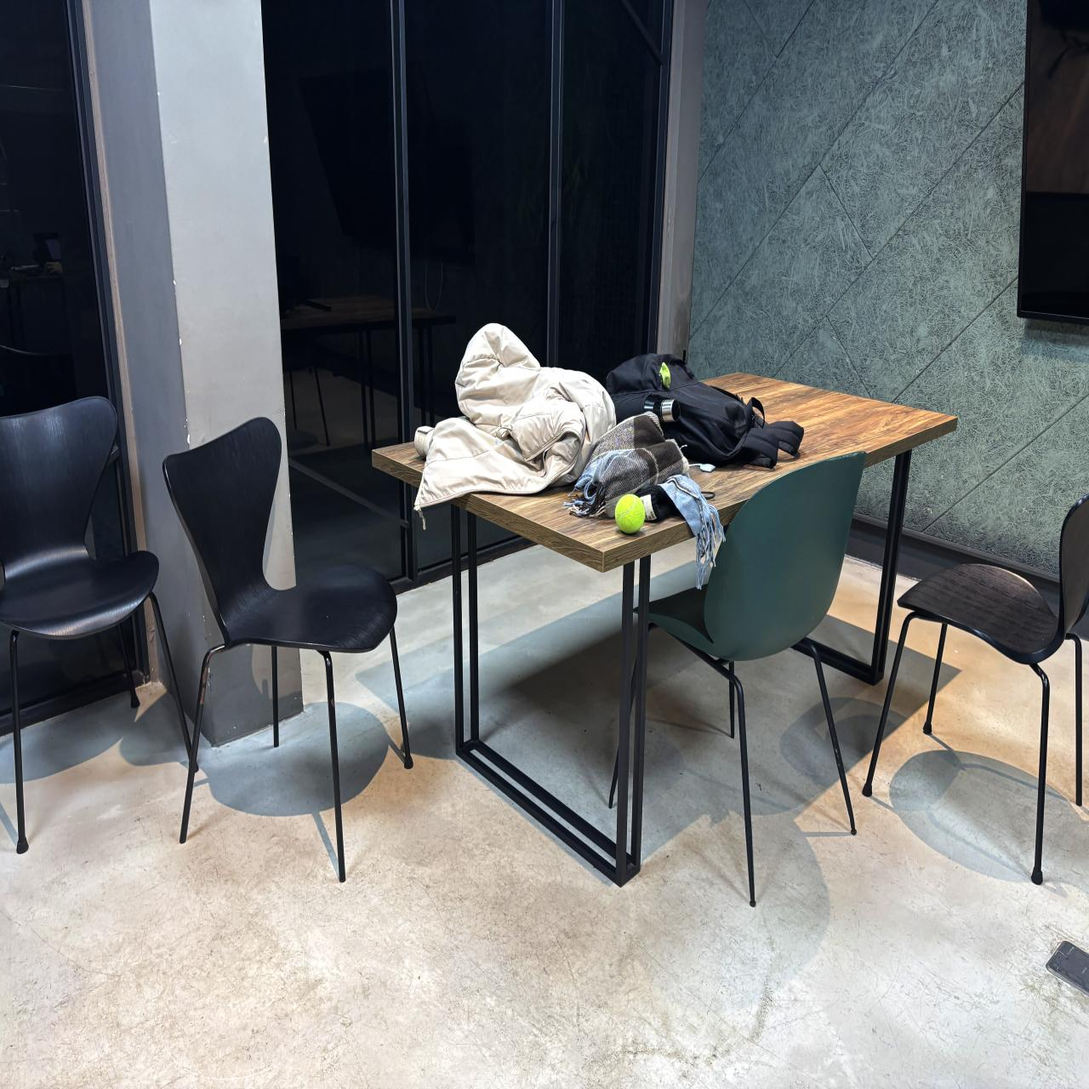tennisball: (615, 495, 645, 534)
